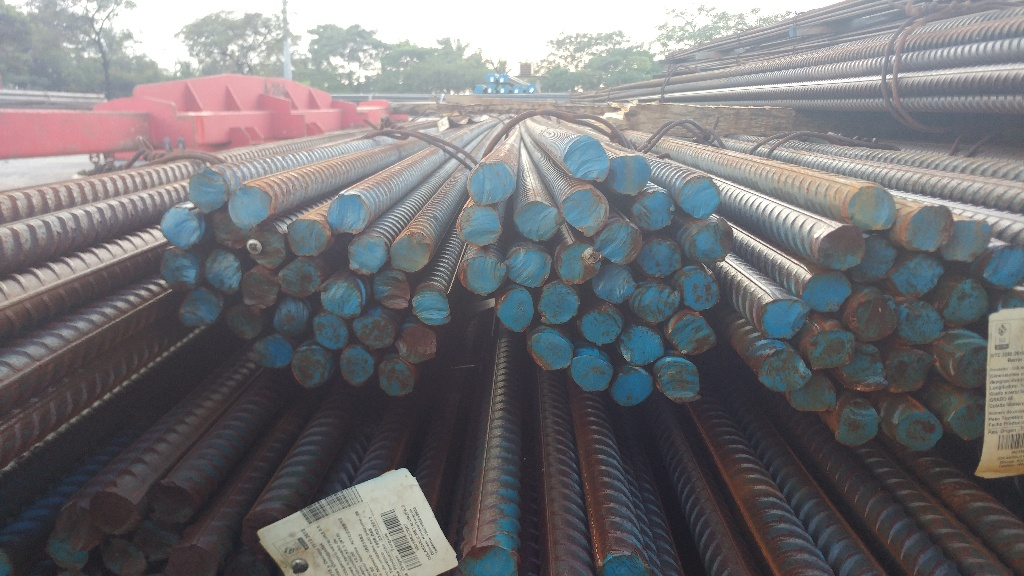dipstick: (898, 202, 956, 252), (800, 326, 859, 372), (91, 486, 143, 537), (890, 253, 949, 297), (654, 356, 706, 405), (664, 308, 719, 354), (561, 188, 610, 239), (847, 291, 900, 338), (885, 344, 935, 393), (838, 342, 887, 391), (50, 502, 100, 550), (628, 282, 682, 326), (843, 186, 897, 230), (758, 348, 814, 390), (563, 134, 610, 184), (616, 321, 667, 367), (150, 480, 202, 525), (453, 542, 521, 576), (804, 268, 855, 313), (814, 225, 866, 269), (896, 300, 949, 343), (674, 174, 723, 220), (784, 373, 842, 411), (504, 243, 554, 287), (944, 219, 994, 263), (686, 219, 735, 263), (467, 161, 517, 204), (590, 263, 641, 305), (984, 240, 1024, 293), (320, 272, 365, 319), (759, 295, 806, 340), (133, 520, 181, 564), (457, 204, 506, 247), (897, 408, 946, 451), (946, 338, 986, 390), (236, 265, 283, 309), (539, 280, 583, 327), (834, 400, 881, 444), (637, 235, 685, 278), (525, 329, 574, 371), (350, 310, 400, 351), (946, 277, 990, 323), (394, 323, 442, 365), (158, 206, 206, 248), (556, 243, 604, 285), (412, 286, 459, 328), (457, 254, 504, 296), (43, 528, 90, 570), (285, 217, 333, 258), (946, 396, 987, 444), (856, 236, 895, 286), (227, 185, 272, 228), (156, 248, 201, 291), (677, 266, 722, 309), (595, 222, 642, 263), (293, 341, 332, 389), (178, 290, 226, 329), (203, 249, 244, 294), (514, 197, 556, 240), (610, 154, 652, 197), (273, 297, 313, 342), (495, 288, 535, 333), (611, 368, 656, 408), (99, 538, 149, 574), (577, 305, 624, 343), (248, 226, 291, 267), (570, 355, 616, 393), (311, 310, 353, 351), (348, 234, 389, 275), (187, 168, 227, 210), (392, 230, 432, 272), (377, 358, 417, 400), (631, 192, 674, 231), (278, 259, 323, 295), (168, 545, 220, 576), (328, 193, 367, 234), (600, 546, 652, 576), (374, 269, 411, 310), (339, 345, 376, 386), (251, 333, 293, 369), (226, 304, 268, 339), (211, 210, 248, 249)
